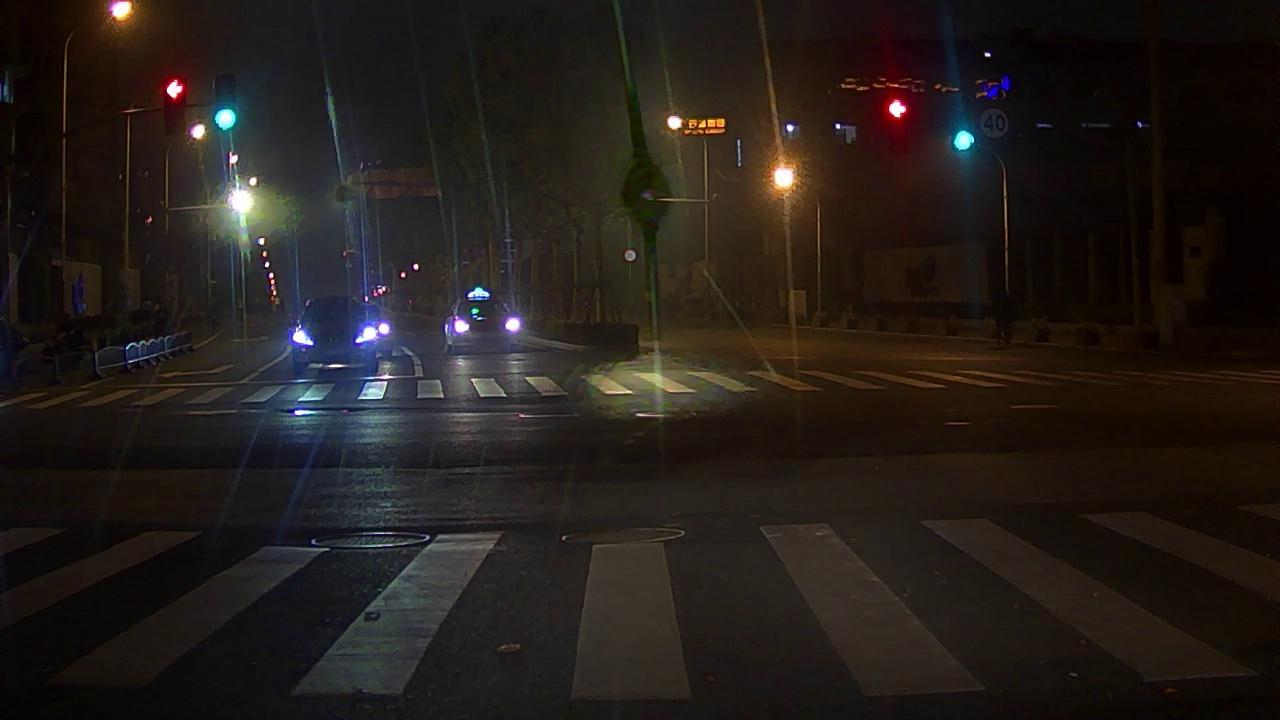traffic_light: (213, 76, 237, 133), (888, 101, 908, 153), (166, 78, 183, 131), (954, 132, 974, 149)
